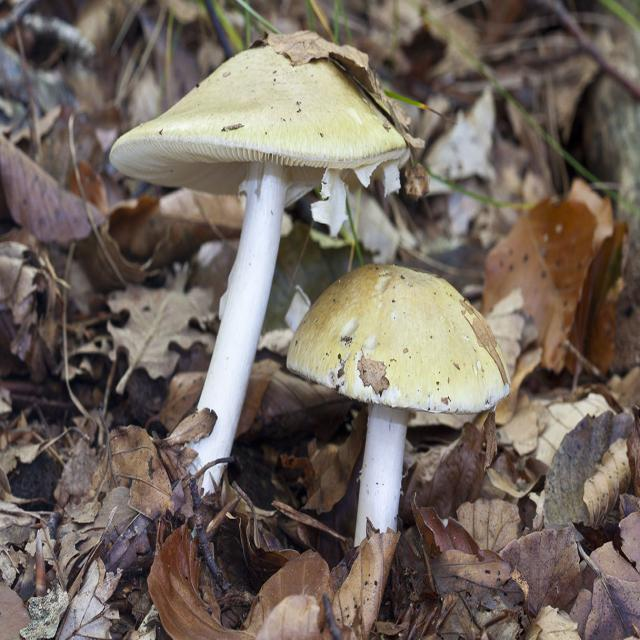death-cap: (108, 45, 411, 470), (285, 263, 511, 549)
